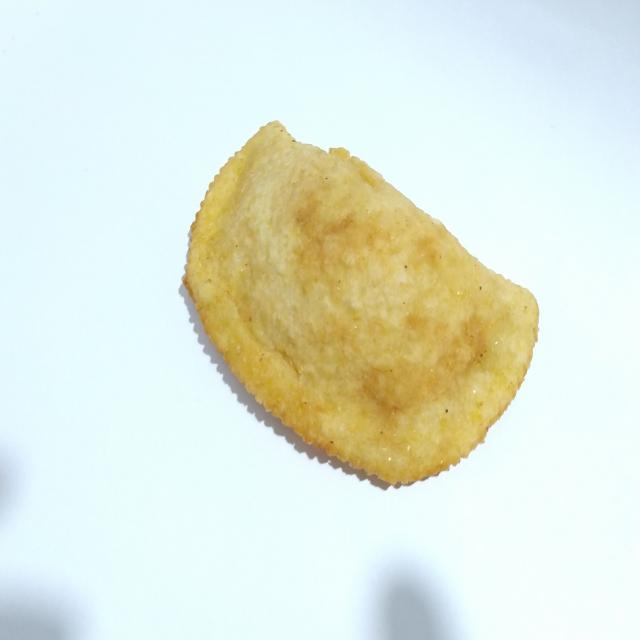Food: (178, 111, 544, 499)
